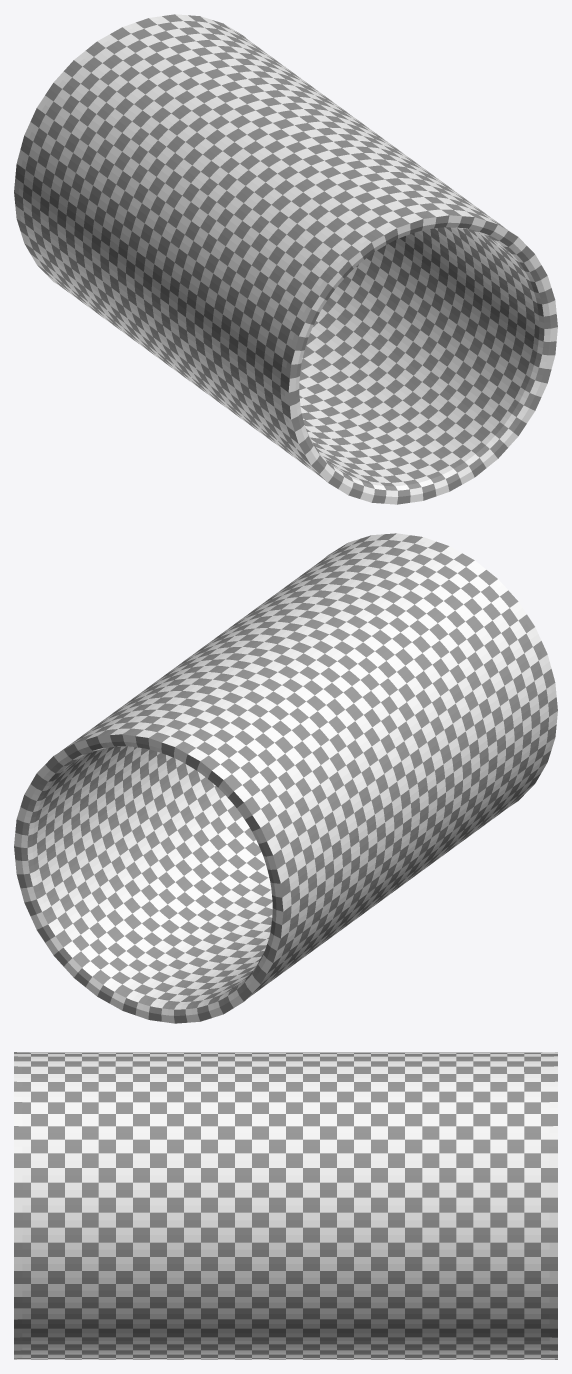
Rendered from pipe.glb.
3 renders of one model, top to bottom at view 1: azimuth 30°, elevation 25°; view 2: azimuth 150°, elevation 25°; view 3: azimuth 270°, elevation 25°, orthographic.
Visible parts, largest first — view 1: Cylinder; view 2: Cylinder; view 3: Cylinder.
Boxes of the visible parts, x1=… form: Cylinder: x1=14, y1=14, x2=557, y2=504; Cylinder: x1=14, y1=533, x2=557, y2=1023; Cylinder: x1=14, y1=1052, x2=557, y2=1359.
Size of the model in its own units: 26.8 by 26.8 by 47.29.
Materials: 1 (1 with a texture image).
